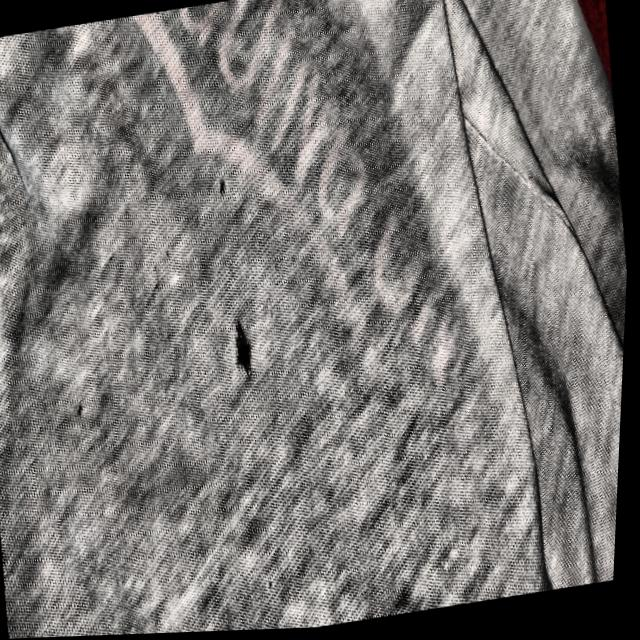Hole: (229, 310, 266, 391), (76, 398, 92, 427), (216, 174, 232, 201)
